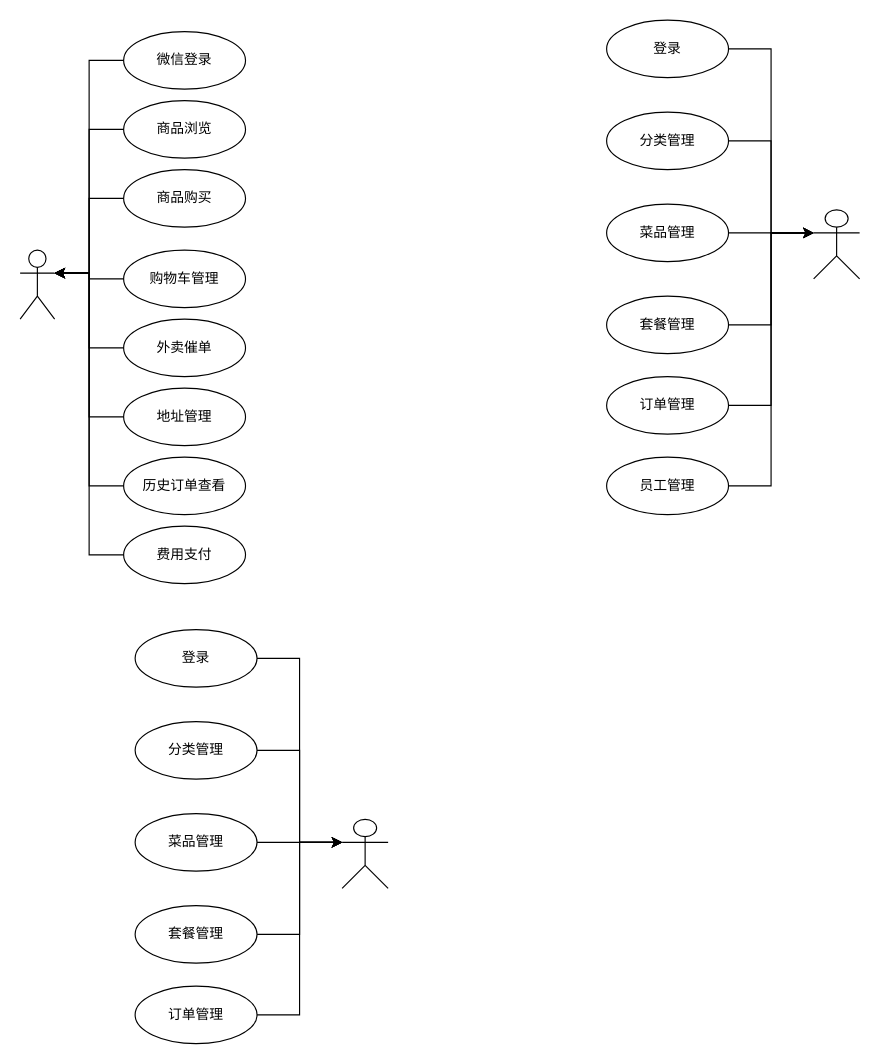
Some shapes in this 880 by 1064 pixel diagram are drawn without their labels. Here are the shapes that lost their labels. From the top down, the box of each, then its label:
(812, 209, 860, 279): 管理员
(19, 249, 55, 319): 用户
(341, 818, 388, 888): 员工
